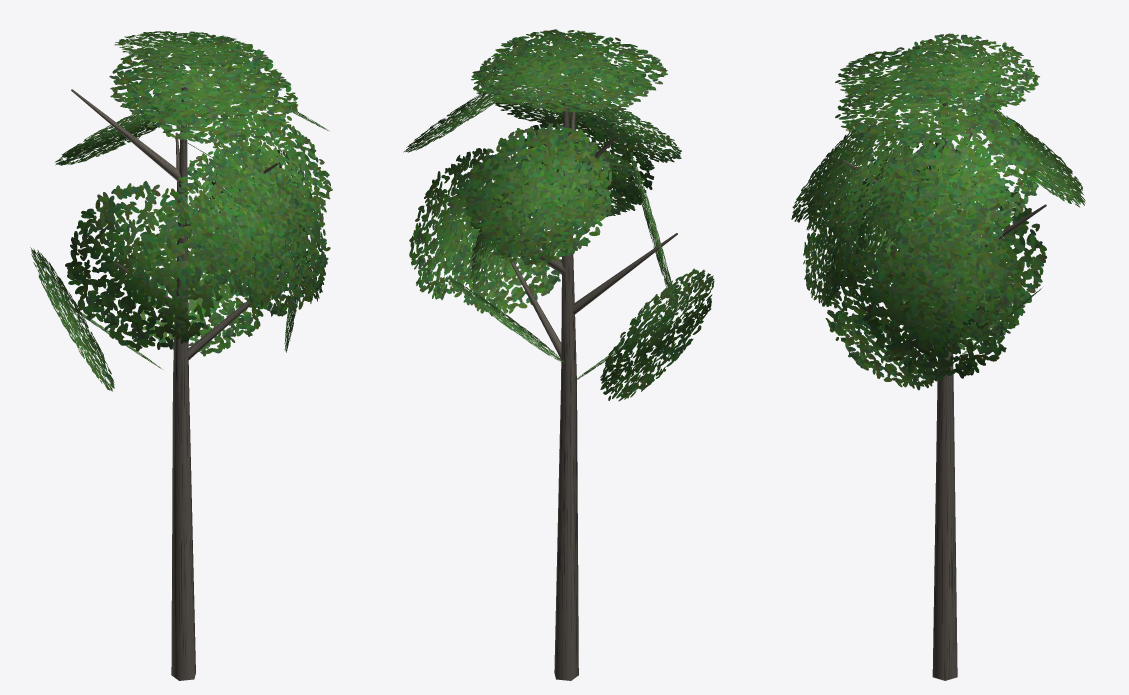
Rendered from Alder_LOD1.fbx.
The picture shows the model from 3 angles, left to right: view 1: azimuth 30°, elevation 25°; view 2: azimuth 150°, elevation 25°; view 3: azimuth 270°, elevation 25°; orthographic projection.
Parts seen in each view (by area): view 1: Alder_LOD1; view 2: Alder_LOD1; view 3: Alder_LOD1.
Boxes of the visible parts, left/top/right/bottom form: Alder_LOD1: left=30, top=31, right=332, bottom=680; Alder_LOD1: left=403, top=29, right=714, bottom=680; Alder_LOD1: left=791, top=33, right=1085, bottom=680.
Bounding box in the file's own units: 7.3 × 14.75 × 7.28.
1 material, 1 textured.
